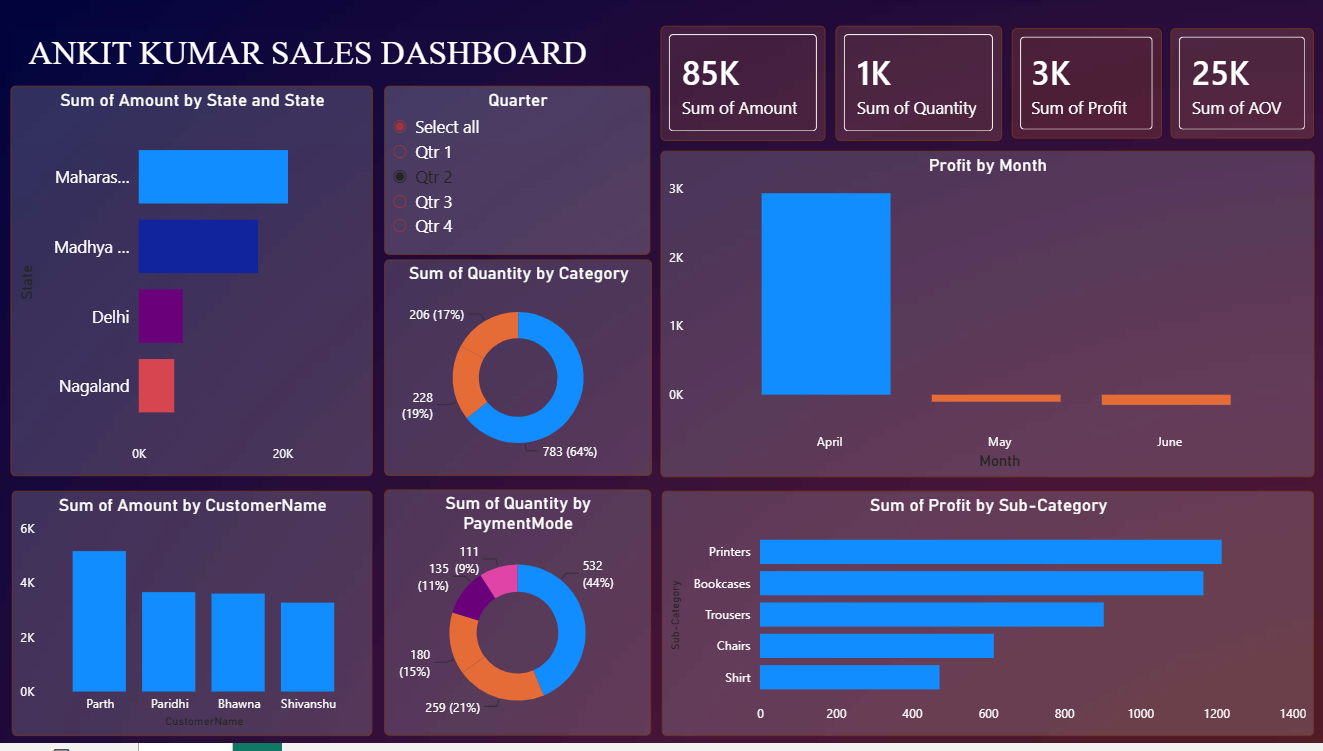

This screenshot's page, from the dashboard's own definition file:
{"tool":"powerbi","page":{"name":"Page 1","canvas":[1280,720],"ordinal":0},"visuals":[{"type":"textbox","box":[13.3,30.3,571.5,110.4],"z":0},{"type":"columnChart","title":"Profit by Month","fields":{"Y":["Sum(Details.Profit)"],"Category":["Orders.Order Date.Variation.Date Hierarchy.Month"]},"box":[639.4,148,630.9,315.5],"z":1000},{"type":"barChart","fields":{"Category":["Details.Sub-Category"],"Y":["Sum(Details.Profit)"]},"box":[640.6,476.8,629.7,236.6],"z":2000},{"type":"donutChart","fields":{"Category":["Details.Category"],"Y":["Sum(Details.Quantity)"]},"box":[372.5,253.6,258.4,208.7],"z":3000},{"type":"donutChart","fields":{"Y":["Sum(Details.Quantity)"],"Category":["Details.PaymentMode"]},"box":[372.5,475.6,257.2,237.8],"z":4000},{"type":"cardVisual","fields":{"Data":["Sum(Details.Amount)"]},"box":[606.6,30.3,180.8,110.4],"z":5000},{"type":"cardVisual","fields":{"Data":["Sum(Details.Quantity)"]},"box":[776.5,30.3,179.6,110.4],"z":6000},{"type":"cardVisual","fields":{"Data":["Sum(Details.Profit)"]},"box":[954.8,30.3,163.8,105.6],"z":7000},{"type":"cardVisual","fields":{"Data":["Sum(Details.Column)"]},"box":[1110.1,27.9,160.2,105.6],"z":8000},{"type":"barChart","fields":{"Category":["Orders.State"],"Series":["Orders.State"],"Y":["Sum(Details.Amount)"]},"box":[12.1,148,349.4,314.2],"z":9000},{"type":"columnChart","fields":{"Category":["Orders.CustomerName"],"Y":["Sum(Details.Amount)"]},"box":[13.3,476.8,348.2,236.6],"z":10000},{"type":"listSlicer","fields":{"Values":["Orders.Order Date.Variation.Date Hierarchy.Quarter"]},"box":[372.5,148,257.2,100.7],"z":11000}]}

Visuals, with their boxes in screenshot pixels (x1, y1, x2, y2), scaled from the page's 1280x720 canvas onto the 1323x751 screenshot:
textbox: 14,32,604,147
"Profit by Month" columnChart: 661,154,1313,483
barChart - Details.Sub-Category x Sum(Details.Profit): 662,497,1313,744
donutChart - Details.Category x Sum(Details.Quantity): 385,265,652,482
donutChart - Sum(Details.Quantity) x Details.PaymentMode: 385,496,651,744
cardVisual - Sum(Details.Amount): 627,32,814,147
cardVisual - Sum(Details.Quantity): 803,32,988,147
cardVisual - Sum(Details.Profit): 987,32,1156,142
cardVisual - Sum(Details.Column): 1147,29,1313,139
barChart - Orders.State x Orders.State: 13,154,374,482
columnChart - Orders.CustomerName x Sum(Details.Amount): 14,497,374,744
listSlicer - Orders.Order Date.Variation.Date Hierarchy.Quarter: 385,154,651,259
